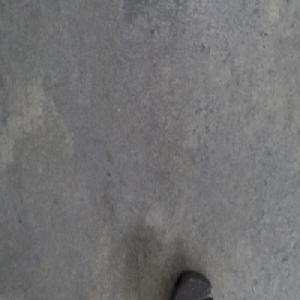AdjustableWrench: (170, 269, 212, 299)
